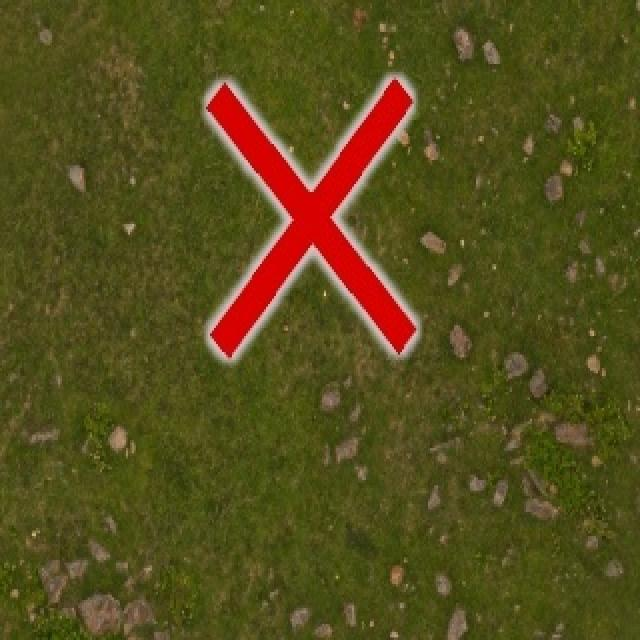x_marker: (207, 79, 415, 356)
